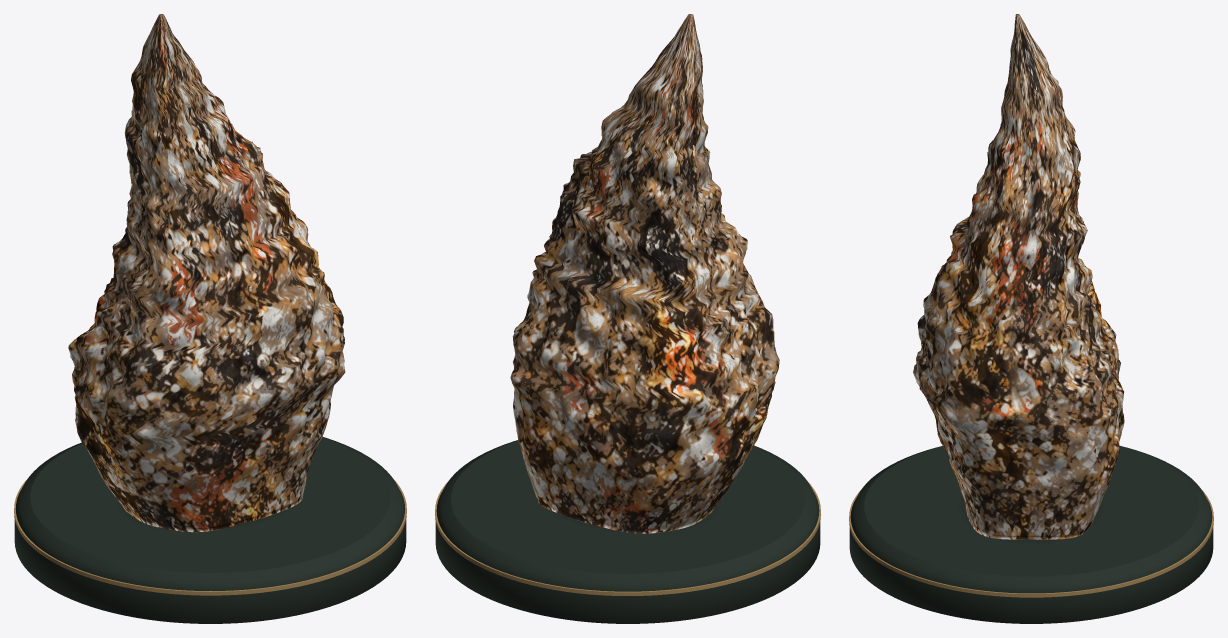
File: lingstone-art-05-v20-f92fe3b7cc2c.glb
The picture shows the model from 3 angles, left to right: view 1: azimuth 30°, elevation 25°; view 2: azimuth 150°, elevation 25°; view 3: azimuth 270°, elevation 25°; orthographic projection. The views are drawn at different scales.
Visible parts, largest first — view 1: art-e19515eb829bb71d concept stone, Centered beveled display plinth, Champagne gold edge; view 2: art-e19515eb829bb71d concept stone, Centered beveled display plinth, Champagne gold edge; view 3: art-e19515eb829bb71d concept stone, Centered beveled display plinth, Champagne gold edge.
Part boxes in pixels (x1,y1,x2,y2): art-e19515eb829bb71d concept stone: (68,14,345,532); Centered beveled display plinth: (14,436,406,623); Champagne gold edge: (14,478,406,595); art-e19515eb829bb71d concept stone: (510,14,779,533); Centered beveled display plinth: (435,440,820,623); Champagne gold edge: (435,481,820,595); art-e19515eb829bb71d concept stone: (913,14,1124,539); Centered beveled display plinth: (849,446,1213,623); Champagne gold edge: (849,489,1213,597).
Size of the model in its own units: 1.41 by 2.18 by 1.41.
4 materials, 1 textured.
